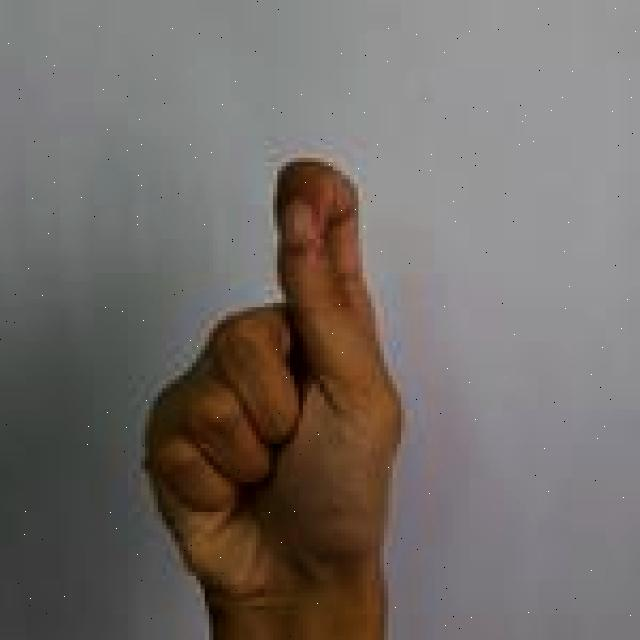T: (136, 153, 408, 640)
